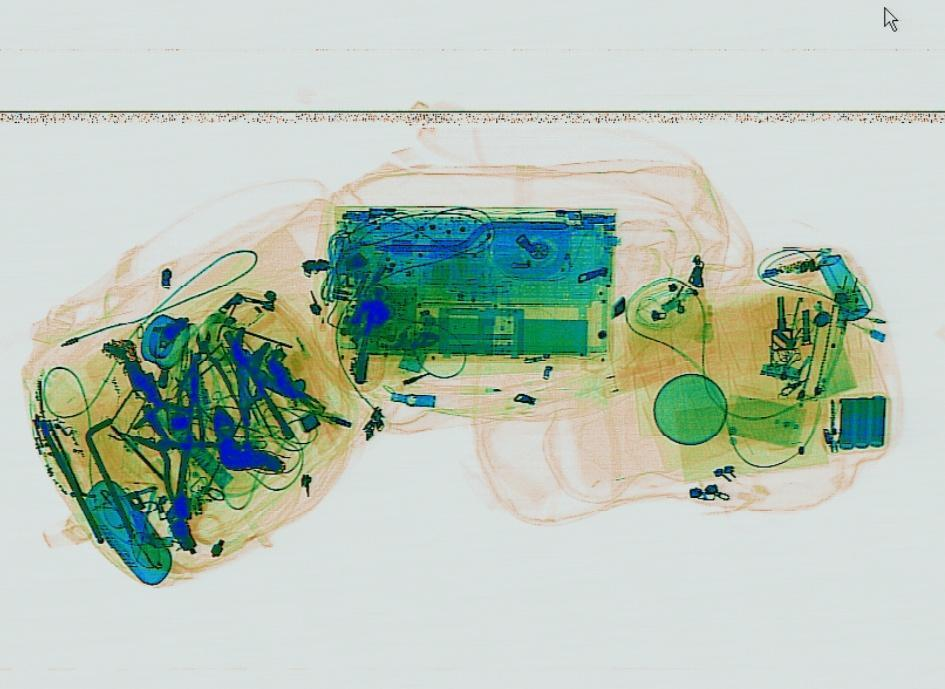Pliers: (162, 329, 249, 435)
